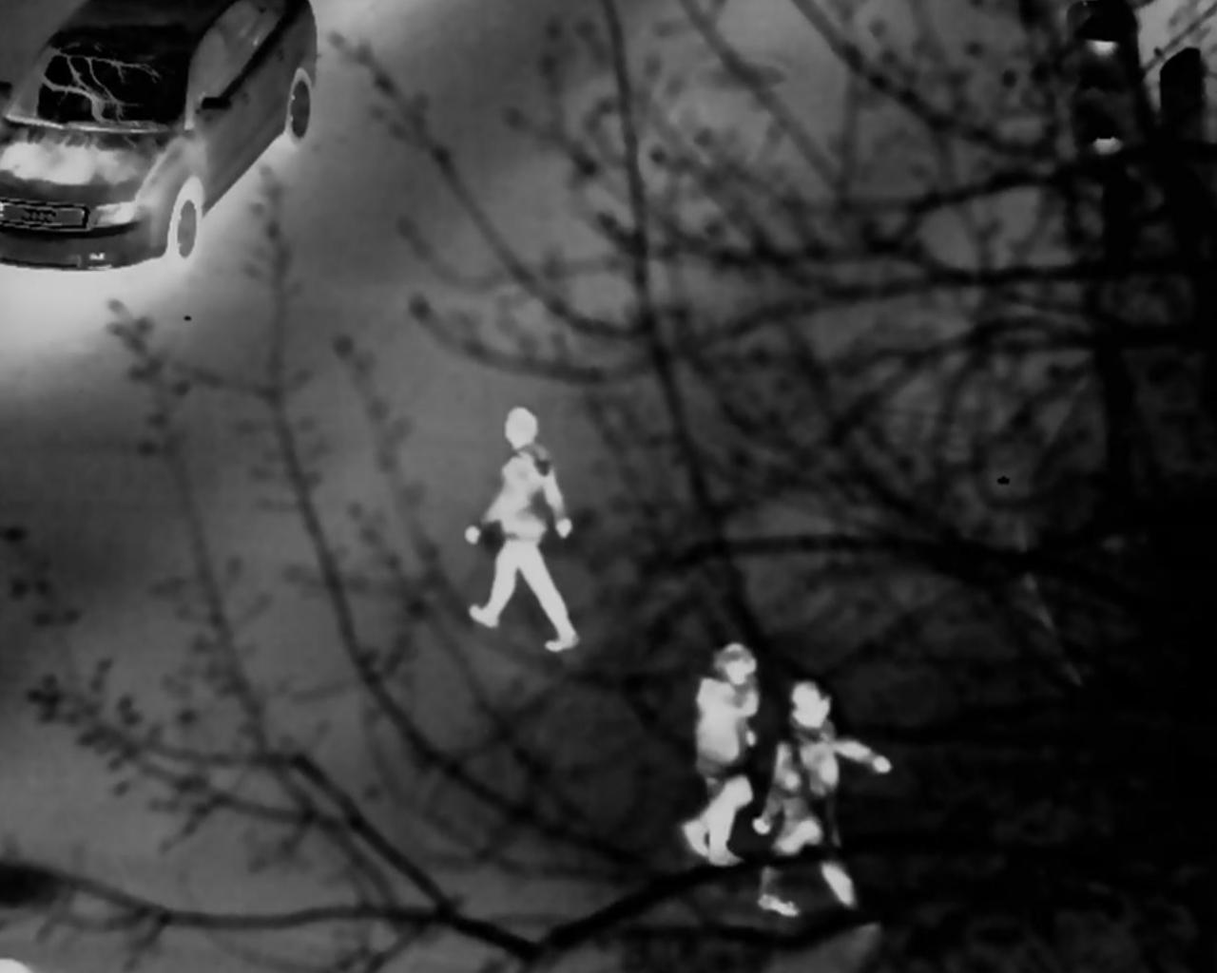person: (751, 680, 883, 909), (463, 404, 580, 639), (671, 639, 762, 865)
